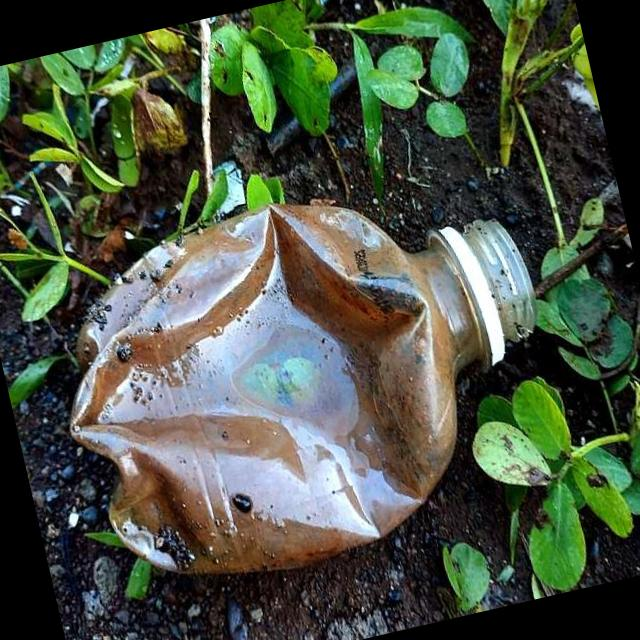Non-biodegradable: (30, 149, 580, 616)
